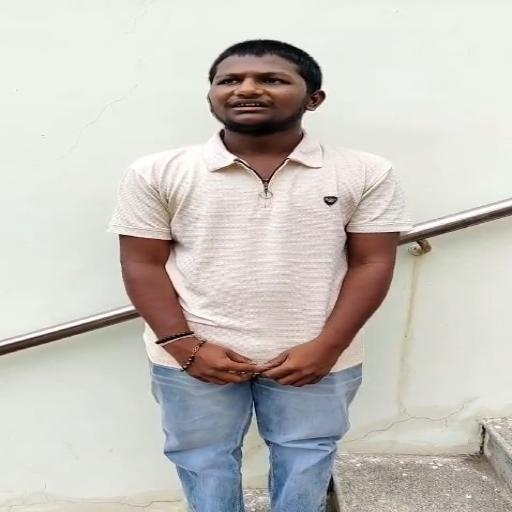employee-detectio-system: (98, 38, 414, 322)
